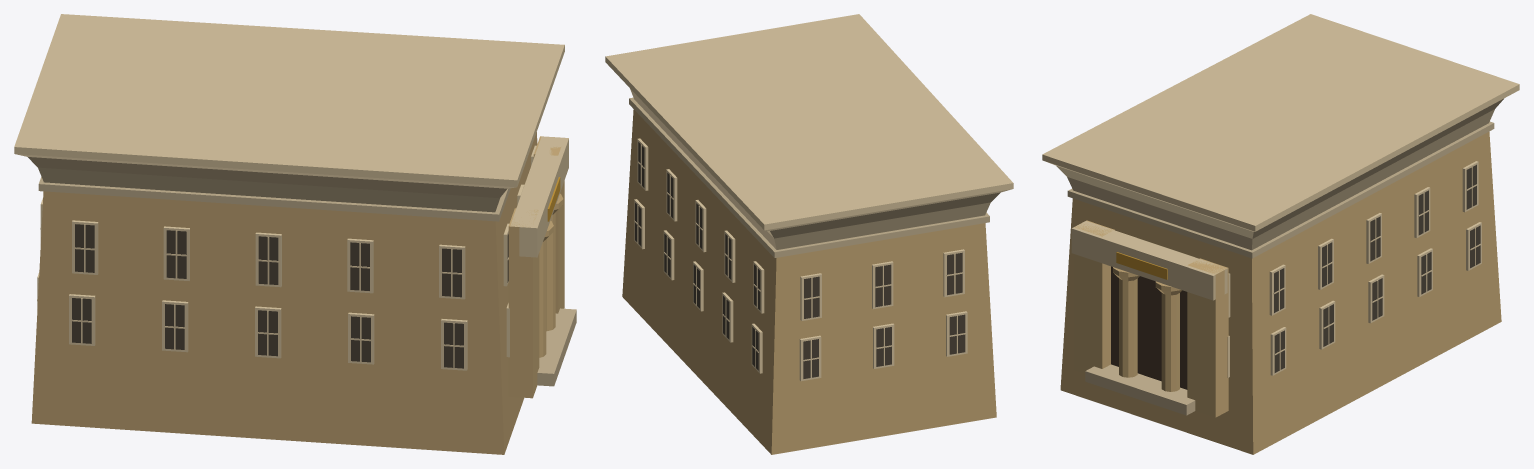
Rendered from egyptian-building.glb.
The picture shows the model from 3 angles, left to right: view 1: azimuth 30°, elevation 25°; view 2: azimuth 150°, elevation 25°; view 3: azimuth 270°, elevation 25°; orthographic projection. The views are drawn at different scales.
Parts seen in each view (by area): view 1: walls; view 2: walls; view 3: walls.
Part boxes in pixels (left/top/right/bottom): walls: left=14, top=14, right=576, bottom=454; walls: left=605, top=14, right=1013, bottom=454; walls: left=1042, top=14, right=1519, bottom=454.
Size of the model in its own units: 38.8 by 20.2 by 36.93.
